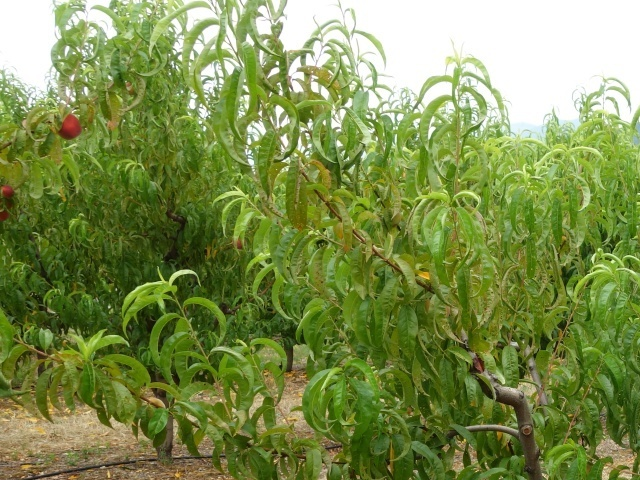peach: (52, 112, 85, 141), (1, 179, 16, 202), (1, 204, 13, 223)
